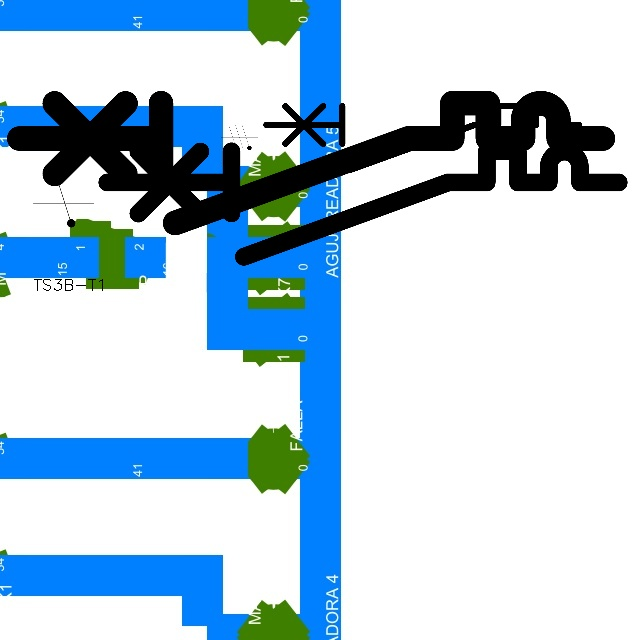interruptor_termomagnetico: (4, 88, 618, 238), (93, 138, 631, 270), (258, 98, 587, 178)
